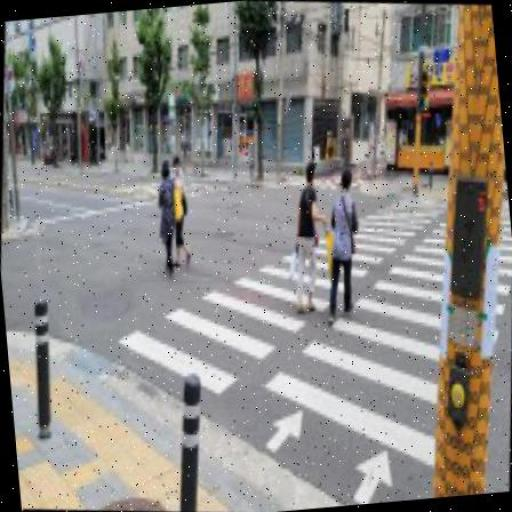person: (314, 165, 373, 322), (281, 154, 336, 316), (159, 147, 200, 276), (146, 154, 186, 274)
